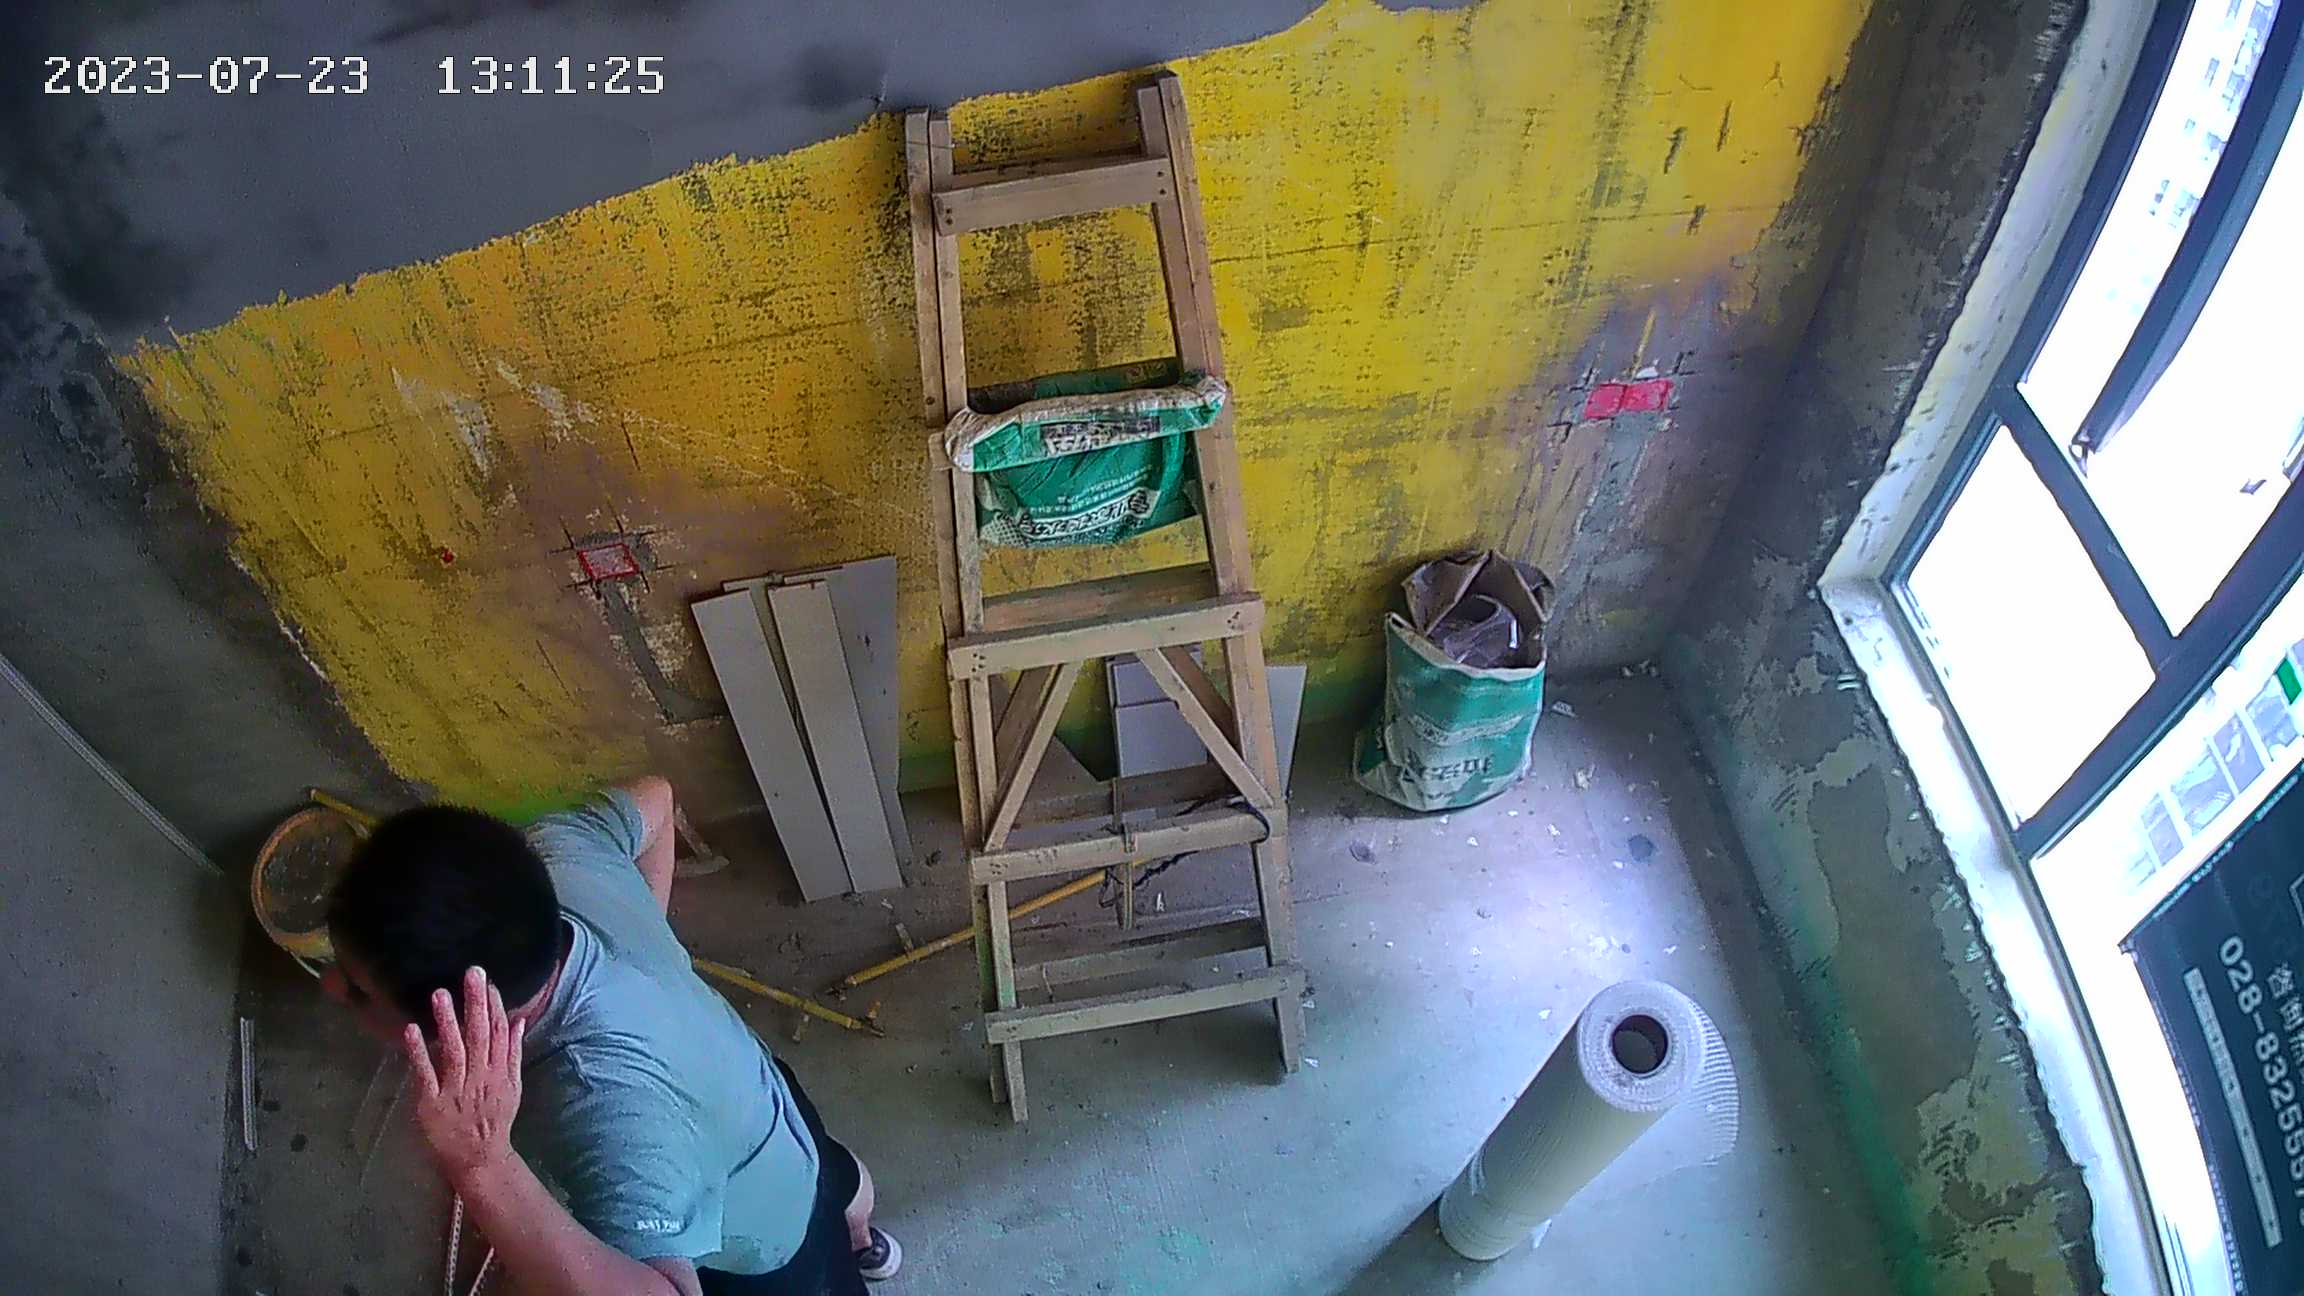people: (322, 766, 911, 1296)
window: (1910, 5, 2304, 1271)
